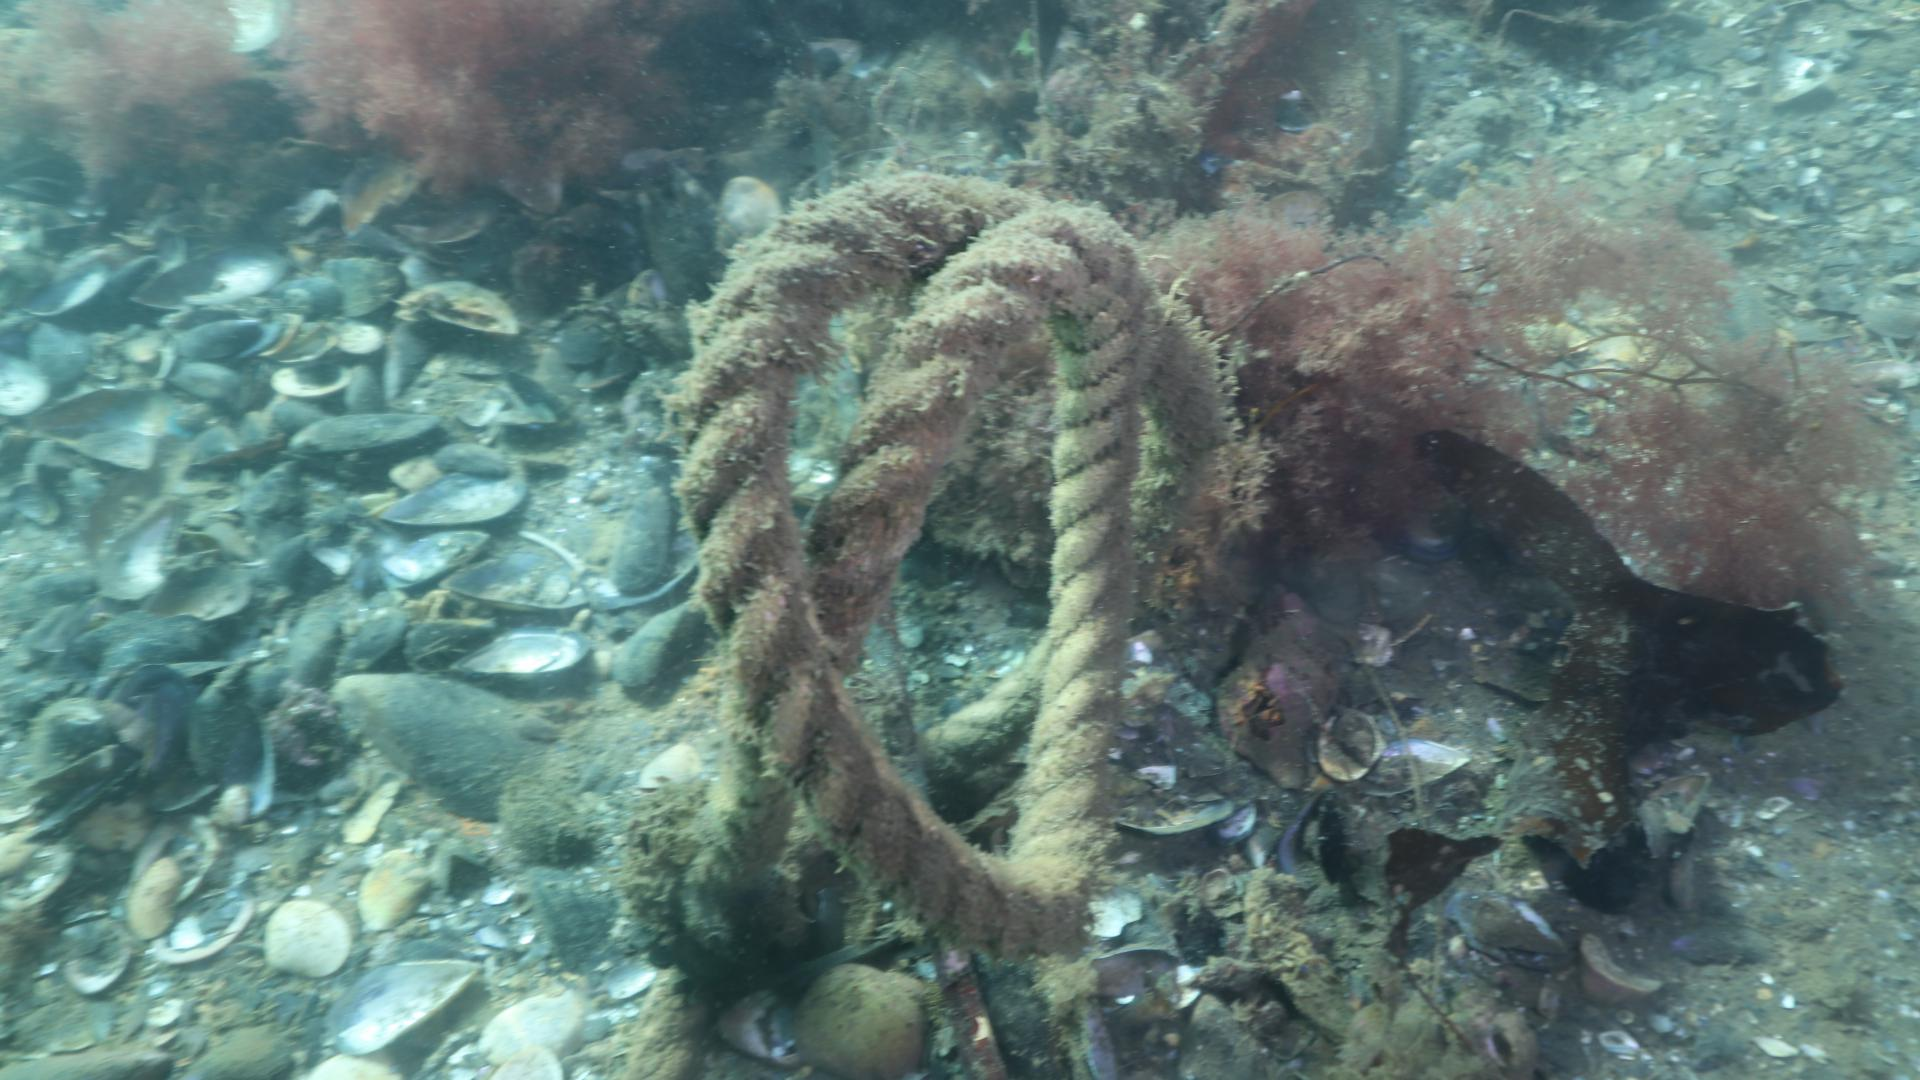bundle of ropes: (625, 164, 1238, 1015)
